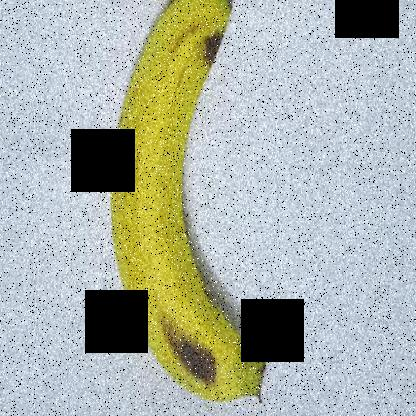freshripe: (92, 1, 292, 412)
